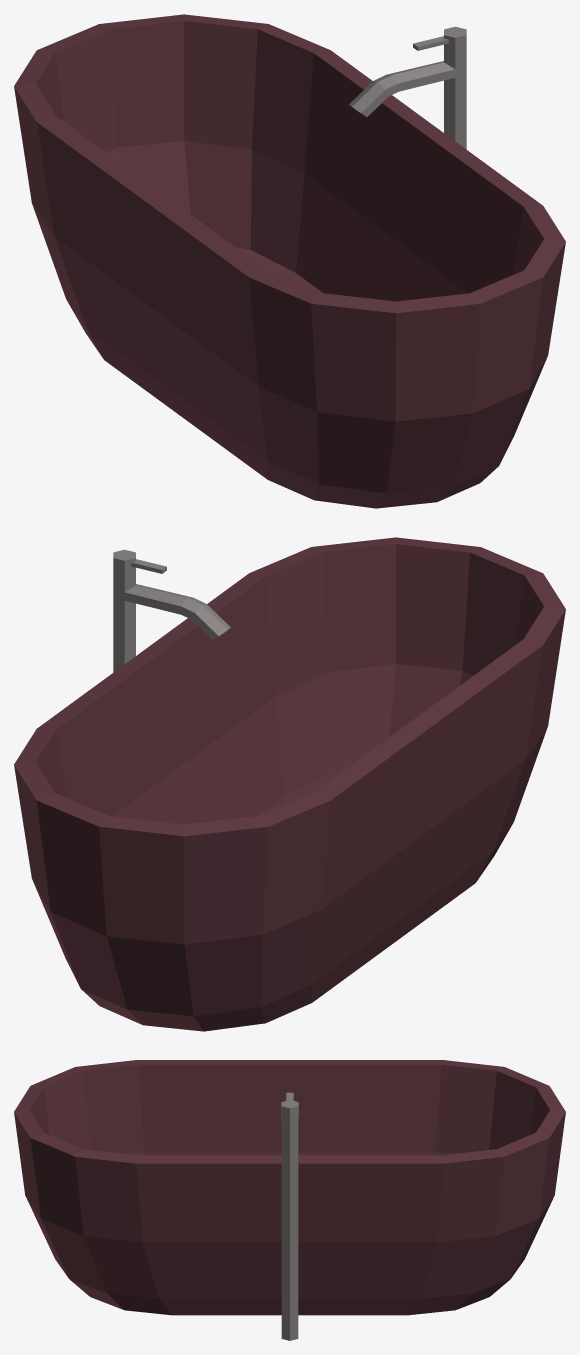
File: bath-space.fbx
The picture shows the model from 3 angles, top to bottom: view 1: azimuth 30°, elevation 25°; view 2: azimuth 150°, elevation 25°; view 3: azimuth 270°, elevation 25°; orthographic projection. The views are drawn at different scales.
Parts seen in each view (by area): view 1: bath-space; view 2: bath-space; view 3: bath-space.
Boxes of the visible parts, x1,y1,x2,y2 form: bath-space: [14, 14, 565, 508]; bath-space: [14, 537, 565, 1031]; bath-space: [14, 1060, 565, 1340].
Bounding box in the file's own units: 0.8811 × 0.8374 × 1.8.
